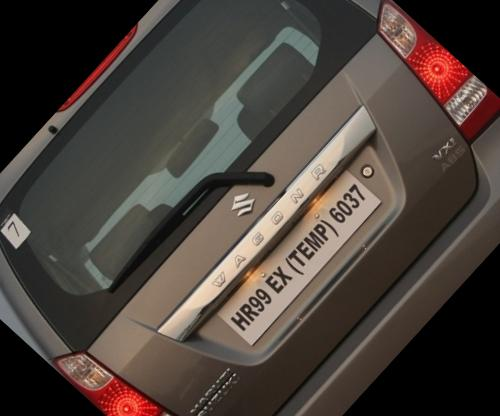plate: (199, 146, 407, 362)
